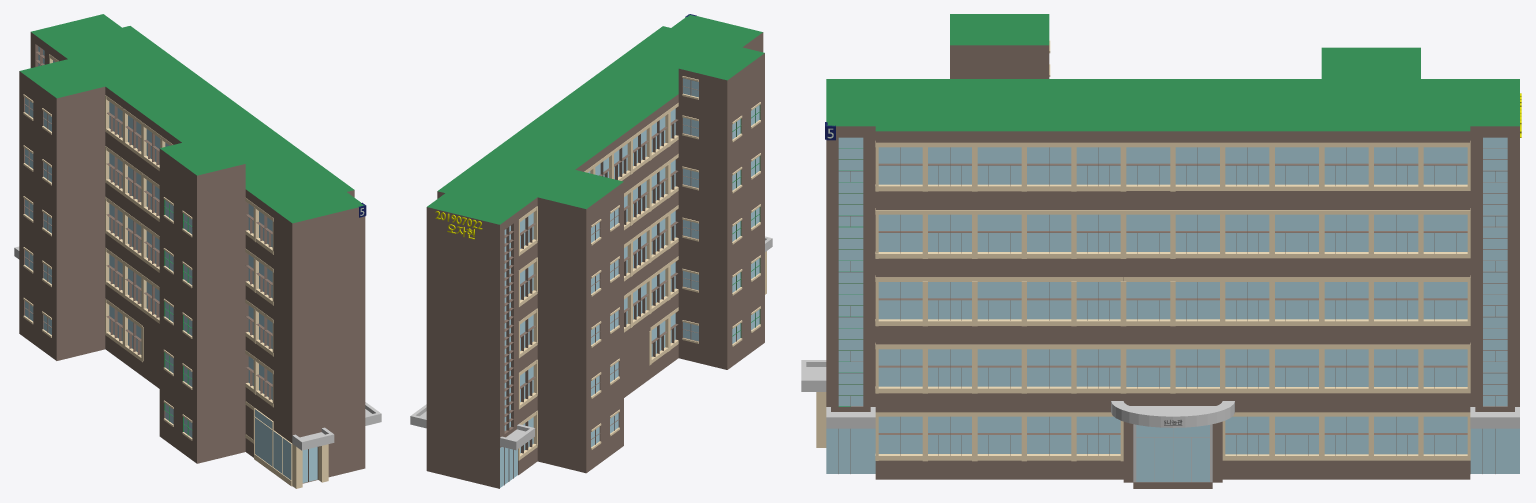
The model's file is 5building_4.glb.
The picture shows the model from 3 angles, left to right: view 1: azimuth 30°, elevation 25°; view 2: azimuth 150°, elevation 25°; view 3: azimuth 270°, elevation 25°; orthographic projection. The views are drawn at different scales.
Visible parts, largest first — view 1: main, Cube.007, Cube.018, sidebar-1, Cube.056, 후면창문, sidebar-2, Cube.048, Cube.059, Plane.004, Cube.051, Cube.040 (+4 smaller); view 2: main, sidebar-2, Cube.007, Cube.018, Cube.056, 후면창문, sidebar-1, Cube.049, Cube.048, Cube.059, Cube.040, Cube.038 (+4 smaller); view 3: main, 전면창문, Cube.068, sidebar-2, sidebar-1, Cube.007, Cube.027, Cube.065, Cube.018, Cylinder, Cube.029, Cube.011 (+7 smaller).
Part boxes in pixels (x1,y1,x2,y2): main: [49, 26, 354, 457]; Cube.007: [159, 136, 245, 463]; Cube.018: [19, 59, 105, 360]; sidebar-1: [273, 192, 365, 483]; Cube.056: [49, 54, 273, 443]; 후면창문: [53, 60, 272, 399]; sidebar-2: [30, 14, 121, 67]; Cube.048: [165, 200, 192, 437]; Cube.059: [25, 97, 51, 334]; Plane.004: [254, 408, 273, 472]; Cube.051: [272, 430, 292, 486]; Cube.040: [163, 197, 192, 440]; main: [437, 26, 744, 474]; sidebar-2: [426, 193, 518, 488]; Cube.007: [678, 41, 764, 369]; Cube.018: [537, 170, 623, 473]; Cube.056: [518, 103, 678, 460]; 후면창문: [520, 108, 675, 453]; sidebar-1: [671, 14, 763, 52]; Cube.049: [683, 78, 698, 341]; Cube.048: [732, 105, 759, 343]; Cube.059: [591, 208, 618, 447]; Cube.040: [732, 102, 760, 346]; Cube.038: [504, 225, 510, 430]; main: [875, 79, 1470, 479]; 전면창문: [878, 147, 1467, 454]; Cube.068: [875, 141, 1470, 461]; sidebar-2: [1470, 79, 1519, 473]; sidebar-1: [826, 79, 875, 473]; Cube.007: [950, 14, 1049, 78]; Cube.027: [838, 137, 863, 361]; Cube.065: [1483, 137, 1507, 361]; Cube.018: [1321, 47, 1420, 78]; Cylinder: [1111, 401, 1234, 427]; Cube.029: [826, 428, 875, 473]; Cube.011: [1470, 428, 1519, 473].
Bounding box in the file's own units: 95.6 × 170 × 291.
